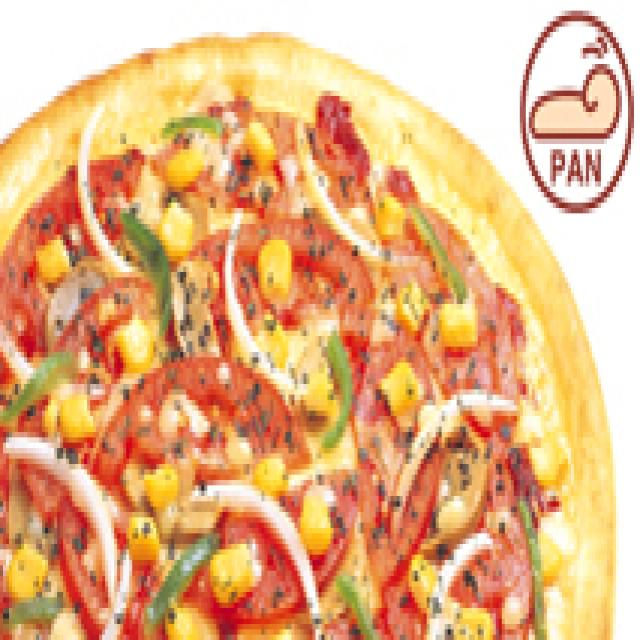汉堡快餐: (0, 26, 610, 640)
